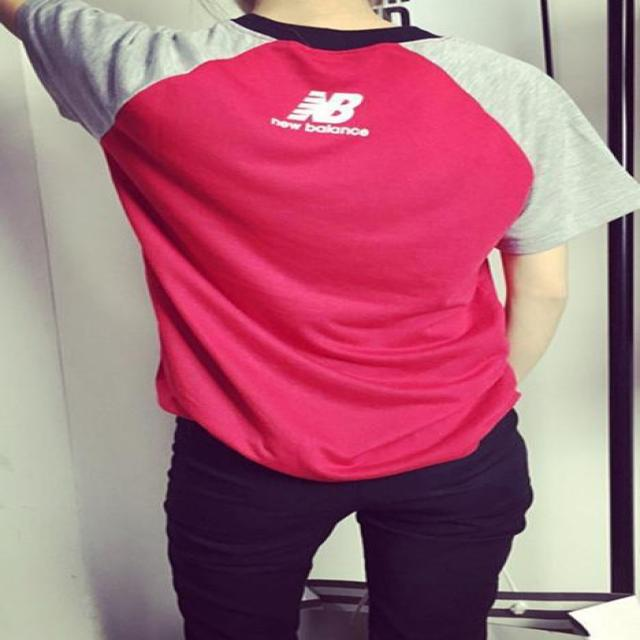short-sleeve-top: (27, 0, 640, 462)
trousers: (141, 477, 548, 628)
